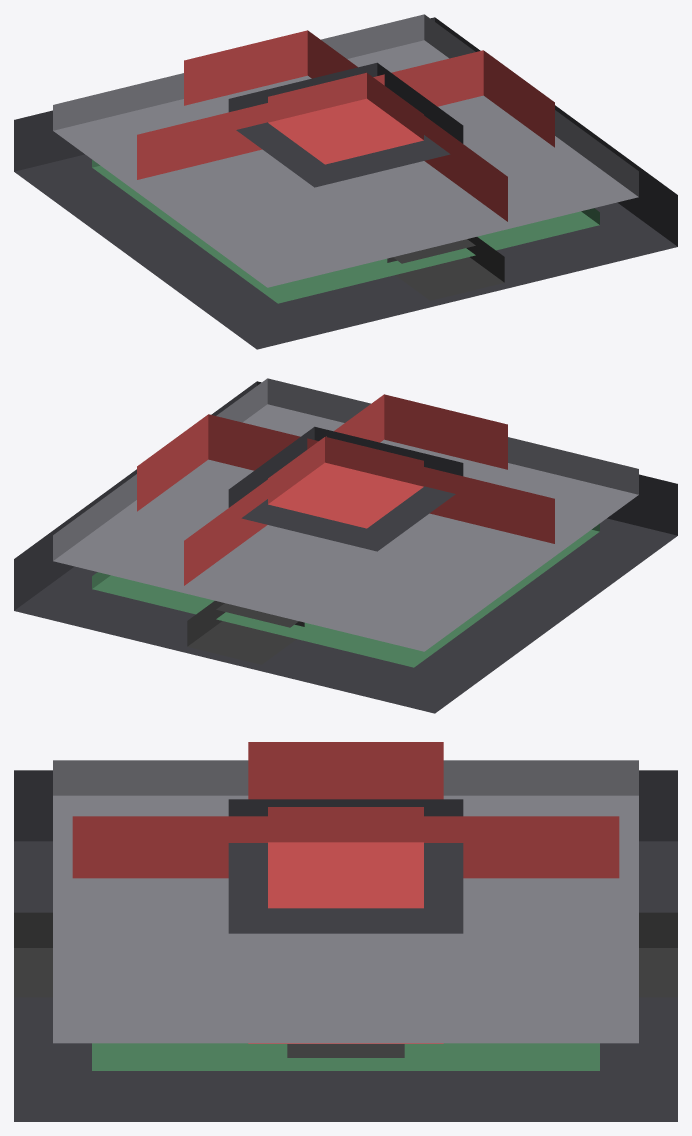
Rendered from d_pad.gltf.
3 renders of one model, top to bottom at view 1: azimuth 30°, elevation 25°; view 2: azimuth 150°, elevation 25°; view 3: azimuth 270°, elevation 25°, orthographic. The views are drawn at different scales.
Visible parts, largest first — view 1: d_pad; view 2: d_pad; view 3: d_pad.
Part boxes in pixels (x1=…): d_pad: x1=14, y1=14, x2=677, y2=349; d_pad: x1=14, y1=378, x2=677, y2=713; d_pad: x1=14, y1=742, x2=677, y2=1121.
Bounding box in the file's own units: 0.034 × 0.008 × 0.034.
